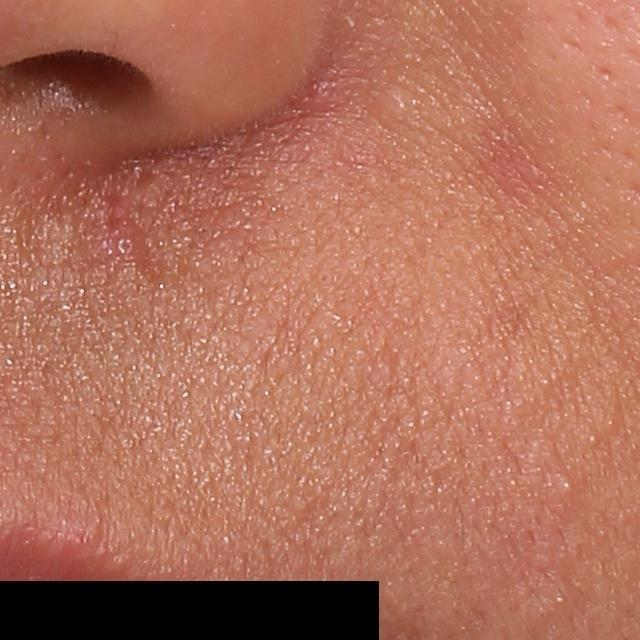comedo: (560, 474, 579, 499)
